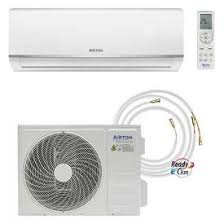ac: (7, 6, 190, 73)
